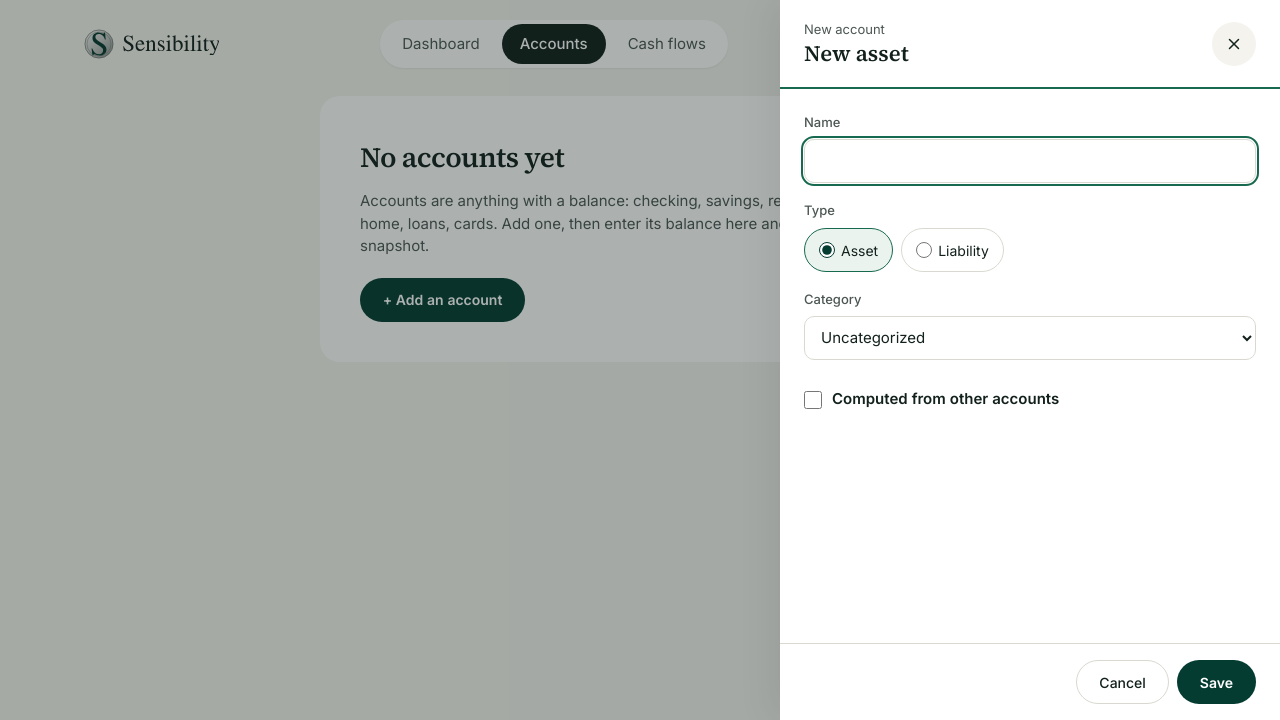
it: the new account drawer › says when there's nothing to use as an input
The width and height of the screenshot is (1280, 720).
Expected: the dialog is shown, [780,0,1279,719]
Step 1. Click the checkbox labelled "Computed from other accounts" → (813, 400), box [804,390,822,408]
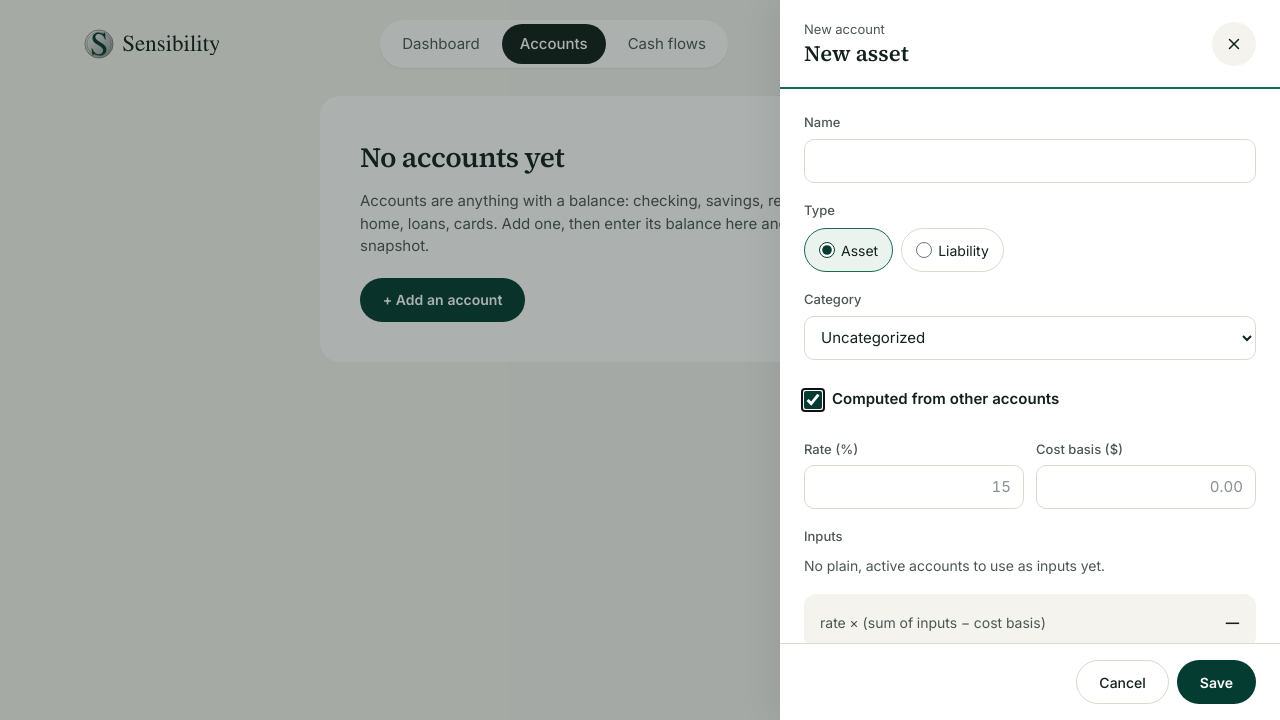
Expected: the dialog shows "No plain, active accounts to use as inputs yet.", [804,556,1105,574]
